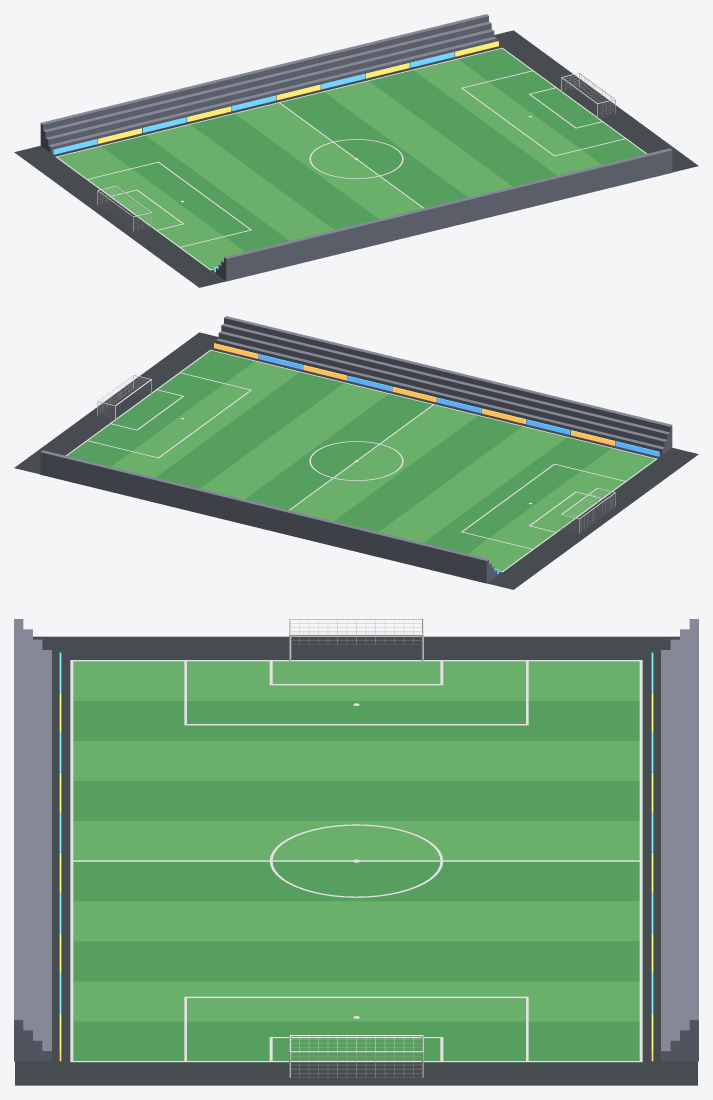
The model's file is pitch.glb.
The picture shows the model from 3 angles, top to bottom: view 1: azimuth 30°, elevation 25°; view 2: azimuth 150°, elevation 25°; view 3: azimuth 270°, elevation 25°; orthographic projection. The views are drawn at different scales.
Parts seen in each view (by area): view 1: Pitch, Goal_Left, Goal_Right; view 2: Pitch, Goal_Left, Goal_Right; view 3: Pitch, Goal_Right, Goal_Left.
Boxes of the visible parts, x1=… form: Pitch: x1=14, y1=14, x2=698, y2=287; Goal_Left: x1=97, y1=186, x2=151, y2=231; Goal_Right: x1=561, y1=73, x2=615, y2=117; Pitch: x1=14, y1=316, x2=698, y2=589; Goal_Left: x1=561, y1=488, x2=615, y2=533; Goal_Right: x1=97, y1=375, x2=151, y2=419; Pitch: x1=14, y1=619, x2=698, y2=1085; Goal_Right: x1=289, y1=1035, x2=423, y2=1077; Goal_Left: x1=289, y1=618, x2=423, y2=660.
Size of the model in its own units: 112 by 4.89 by 72.2.
